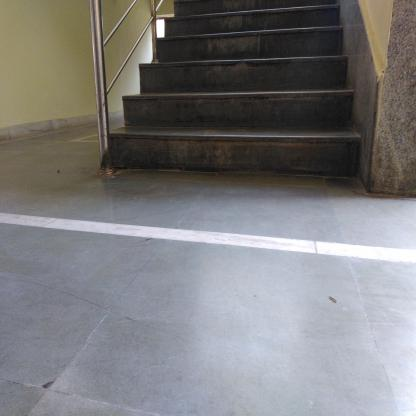stairs: (167, 2, 342, 180)
